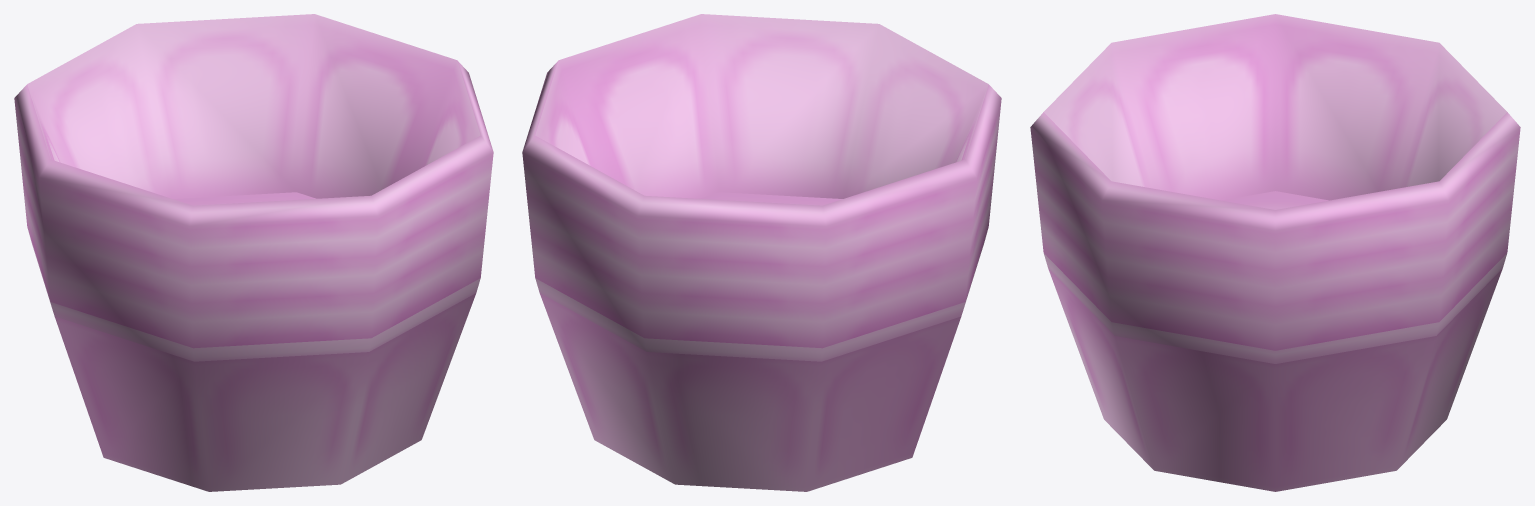
File: jsf_ShavedIceCup_02_Set01.fbx
3 views of the same model, side by side, from view 1: azimuth 30°, elevation 25°; view 2: azimuth 150°, elevation 25°; view 3: azimuth 270°, elevation 25° (orthographic).
Parts seen in each view (by area): view 1: jsf_ShavedIceCup_02_Set01; view 2: jsf_ShavedIceCup_02_Set01; view 3: jsf_ShavedIceCup_02_Set01.
Part boxes in pixels (x1,y1,x2,y2): jsf_ShavedIceCup_02_Set01: (14, 14, 493, 491); jsf_ShavedIceCup_02_Set01: (522, 14, 1001, 491); jsf_ShavedIceCup_02_Set01: (1030, 14, 1520, 491).
Size of the model in its own units: 12 by 8.3 by 12.
